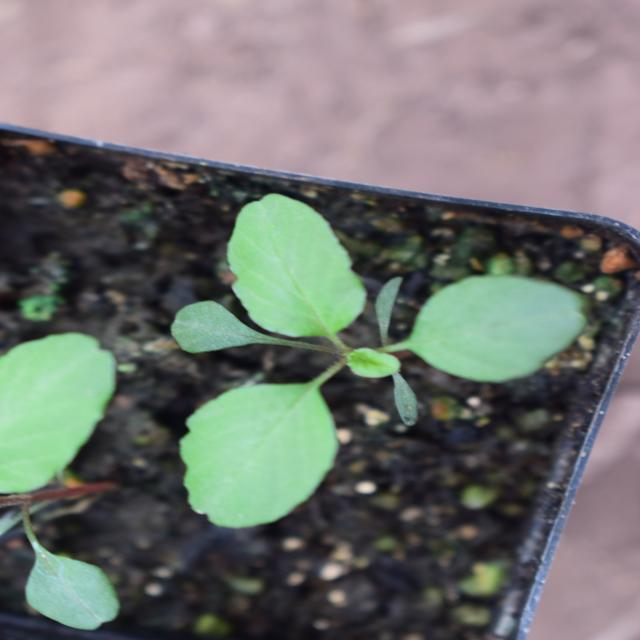pigweed: (111, 154, 446, 564)
